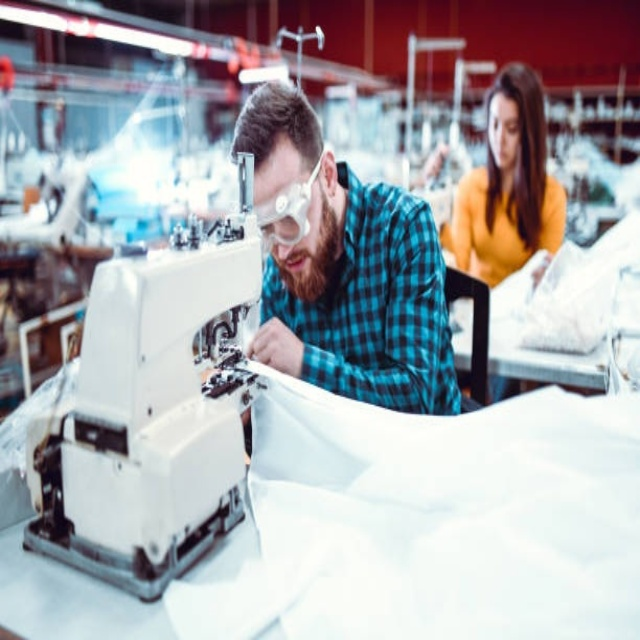Gafas: (255, 150, 325, 248)
Sin_gafas: (488, 108, 518, 141)
Sin_guantes: (246, 306, 303, 376)
Sin_mascara: (277, 251, 318, 292)
